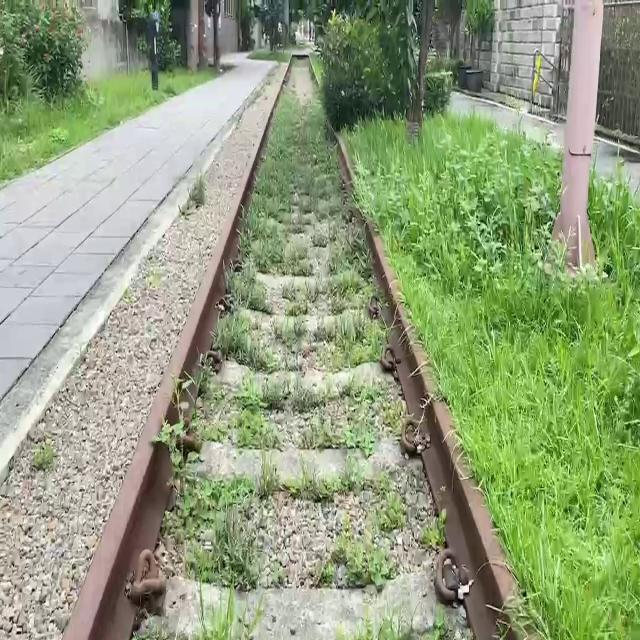rail: (48, 52, 575, 640)
